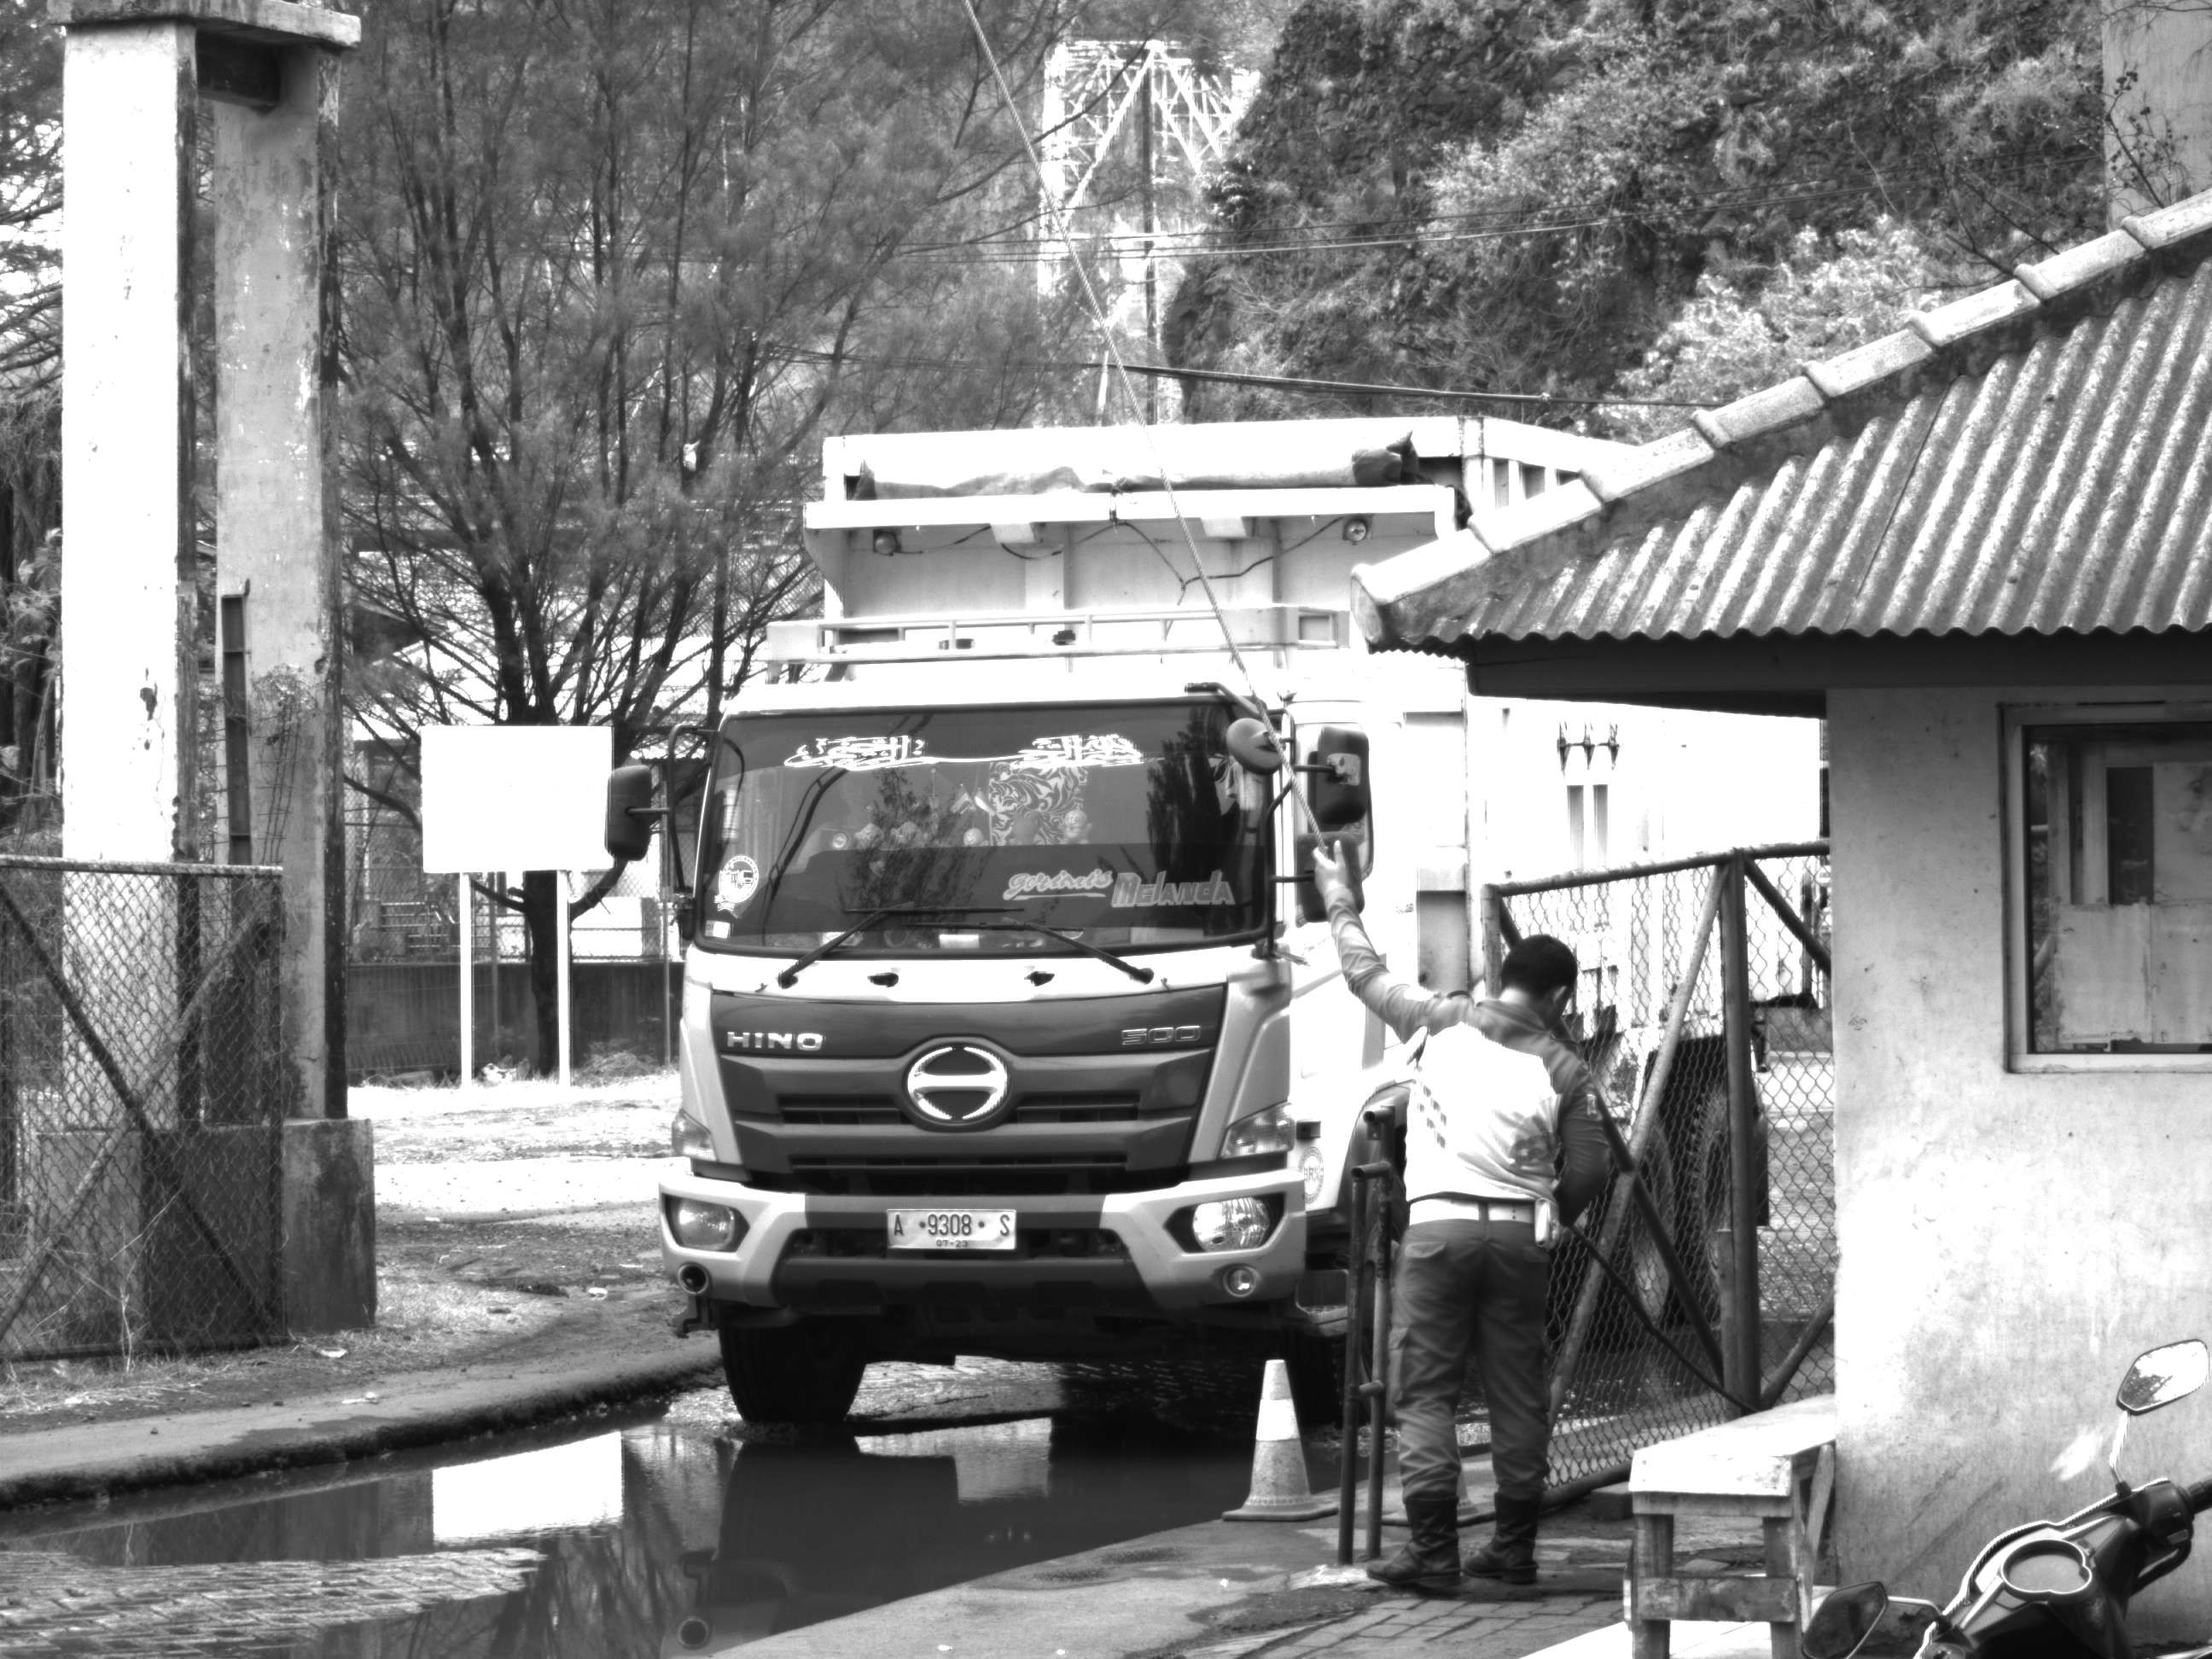day_truck_front: (594, 550, 1458, 1421)
plate: (882, 1206, 1019, 1252)
